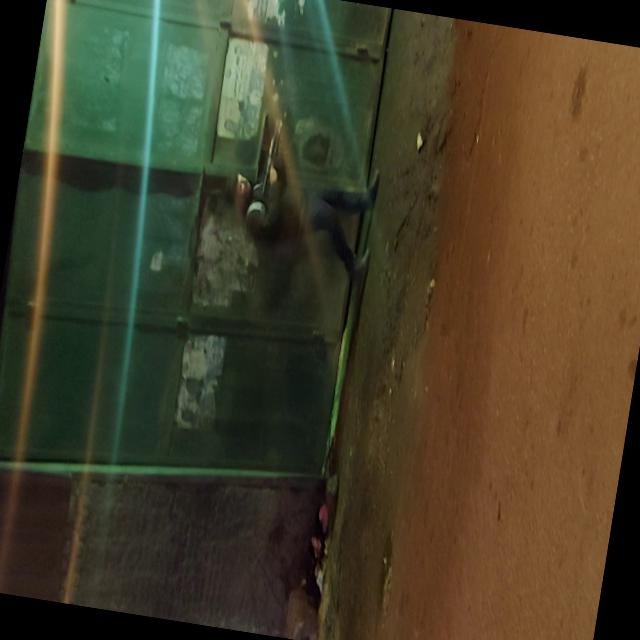long weapon: (252, 106, 293, 206)
